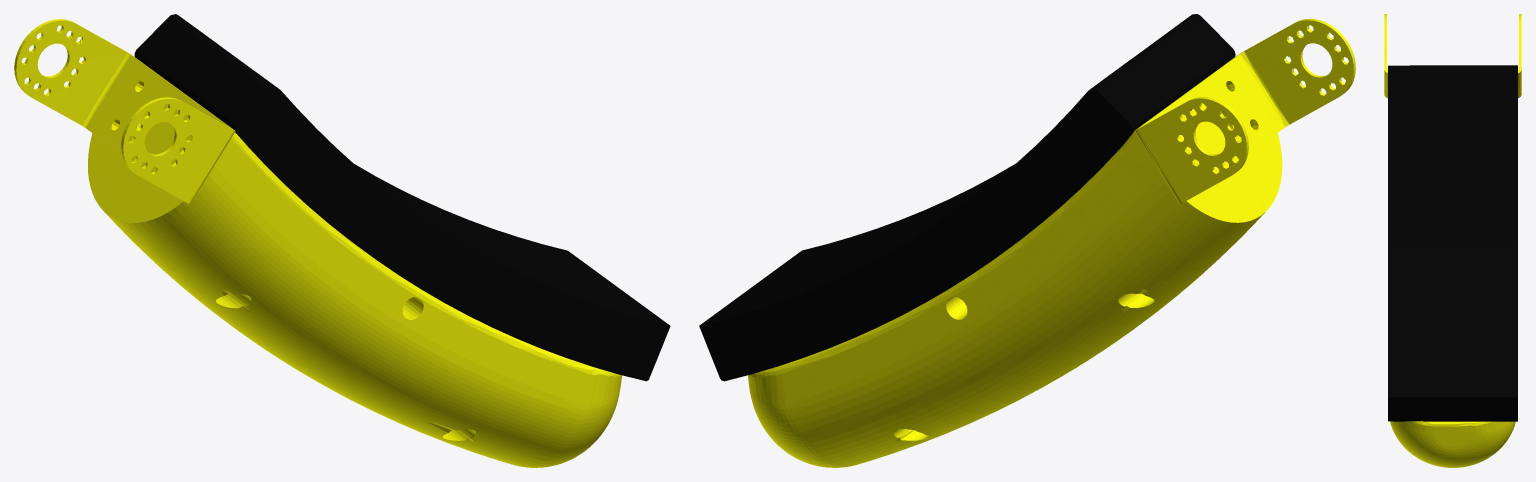
File: hand_right_simple_mini.dae
The picture shows the model from 3 angles, left to right: view 1: azimuth 30°, elevation 25°; view 2: azimuth 150°, elevation 25°; view 3: azimuth 270°, elevation 25°; orthographic projection. The views are drawn at different scales.
Visible parts, largest first — view 1: node; view 2: node; view 3: node.
Part boxes in pixels (bbox=[...]): node: bbox=[14, 14, 670, 467]; node: bbox=[699, 14, 1355, 467]; node: bbox=[1384, 14, 1521, 467].
Bounding box in the file's own units: 15.46 × 13.47 × 5.3.
Materials: 1 (1 with a texture image).
